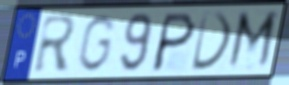9: (119, 11, 155, 74)
D: (189, 10, 235, 73)
G: (75, 13, 118, 74)
M: (224, 9, 281, 72)
P: (148, 10, 199, 74)
R: (31, 13, 79, 75)
